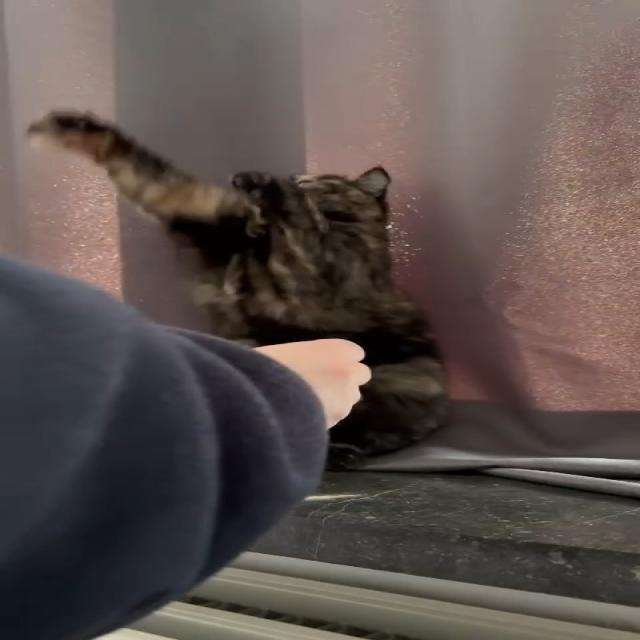authorized: (24, 108, 451, 470)
